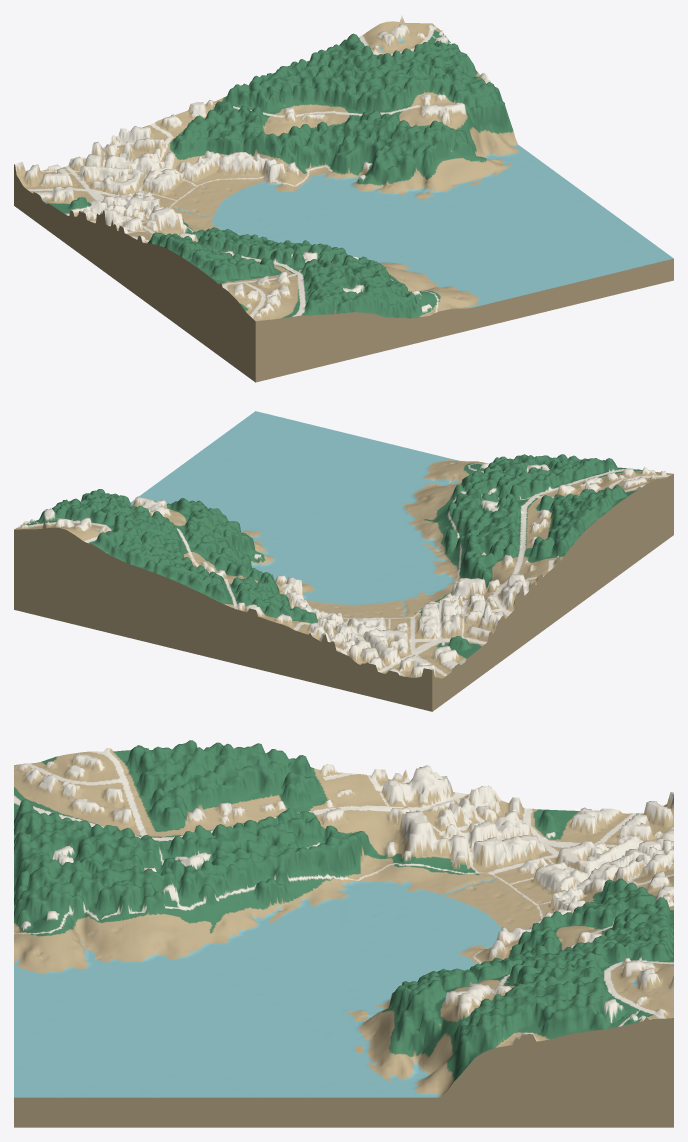
File: tamariu.glb
3 renders of one model, top to bottom at view 1: azimuth 30°, elevation 25°; view 2: azimuth 150°, elevation 25°; view 3: azimuth 270°, elevation 25°, orthographic. The views are drawn at different scales.
Parts seen in each view (by area): view 1: Preview surface; view 2: Preview surface; view 3: Preview surface.
Part boxes in pixels (<box>): Preview surface: <box>14,15,673,382</box>; Preview surface: <box>14,411,673,711</box>; Preview surface: <box>14,740,673,1127</box>.
Bounding box in the file's own units: 1 × 0.2209 × 1.
2 materials, 1 textured.
